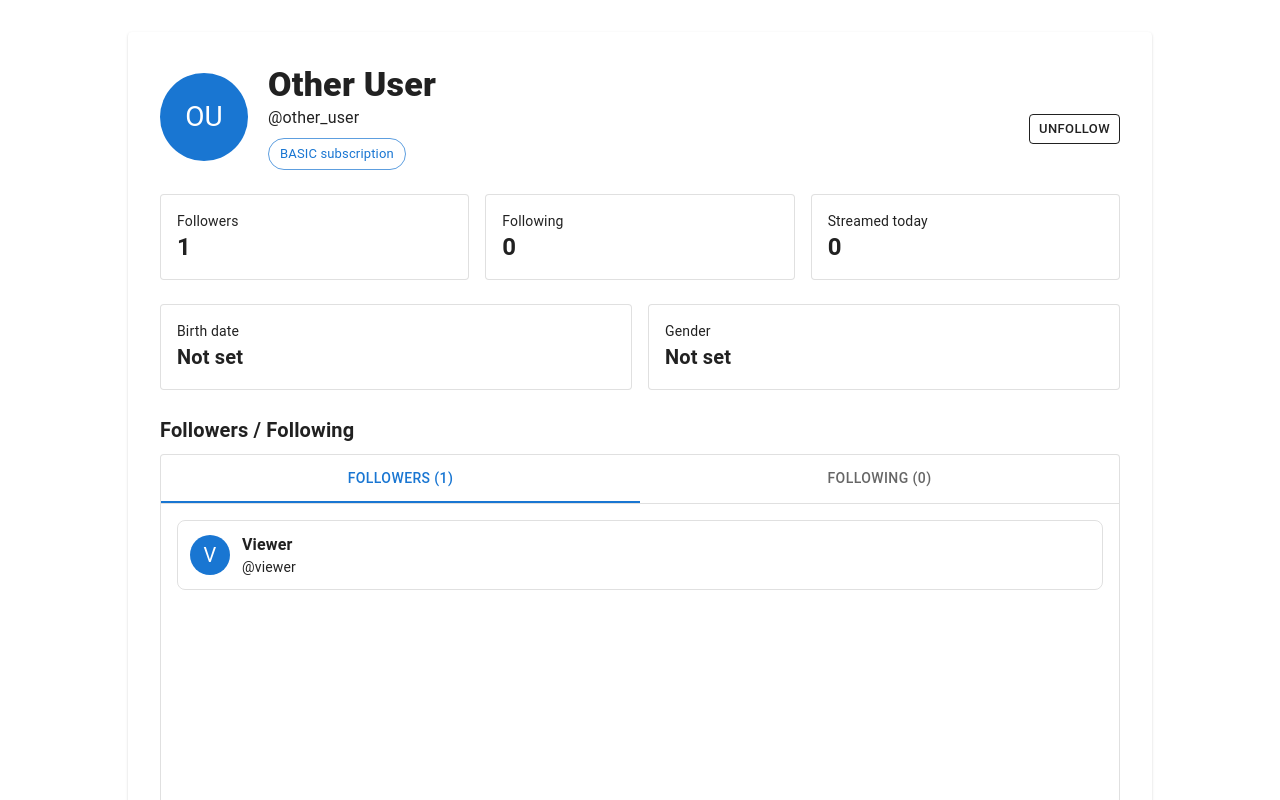
Test: UserProfilePage API integration › unfollows and refreshes followers from the public profile API
Click the button "Unfollow" at (1075, 129), box [1029,114,1120,144]
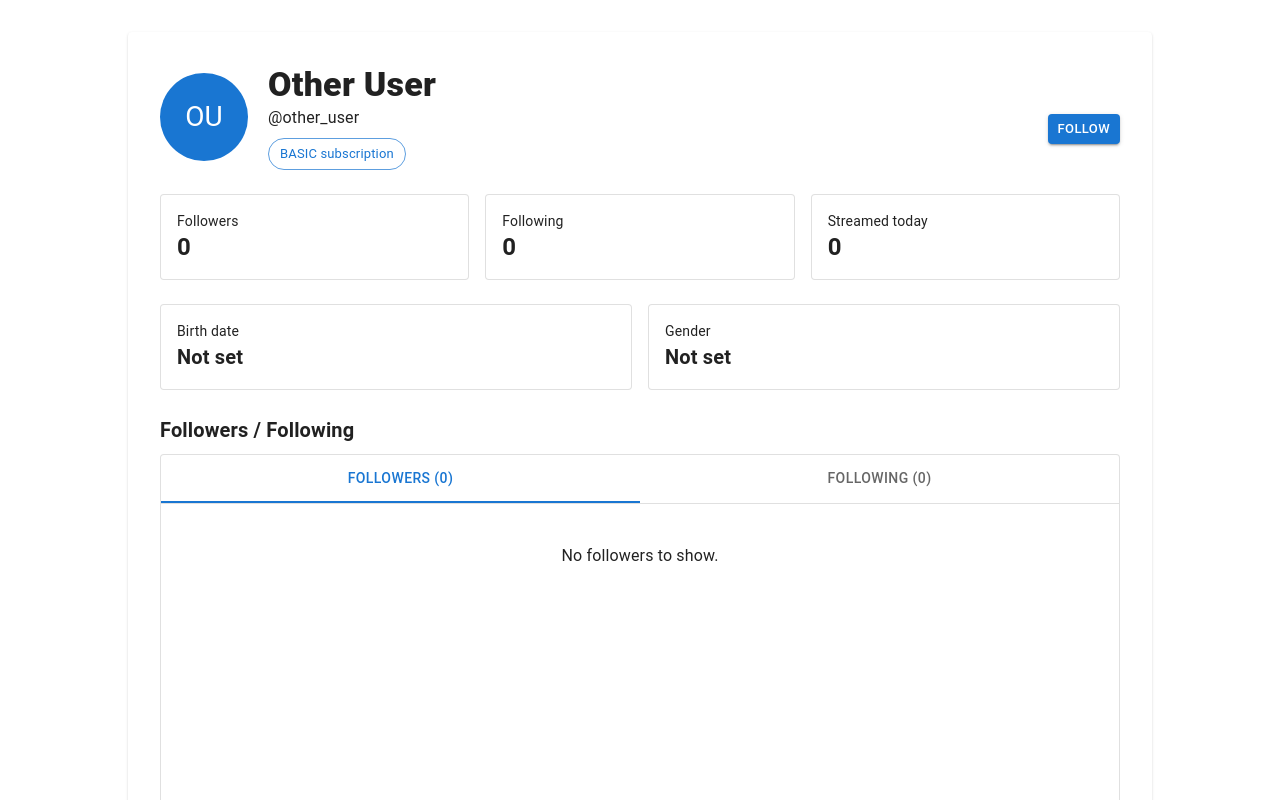
Result: the button "Follow" is shown at [1048,114,1120,144]
Result: the link "Viewer" is gone
